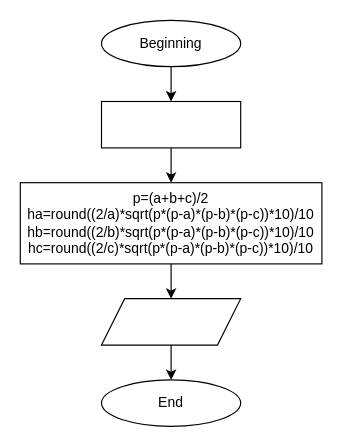
Some shapes in this 342 by 447 pixel diagram are drawn without their labels. Here are the shapes that lost their labels. From the top down, the centre of each, then its label:
At (170,124): "double ha, hb, hc, p int a=6, b=5, c=3".
At (170,321): "Output ha, hb, hc".
